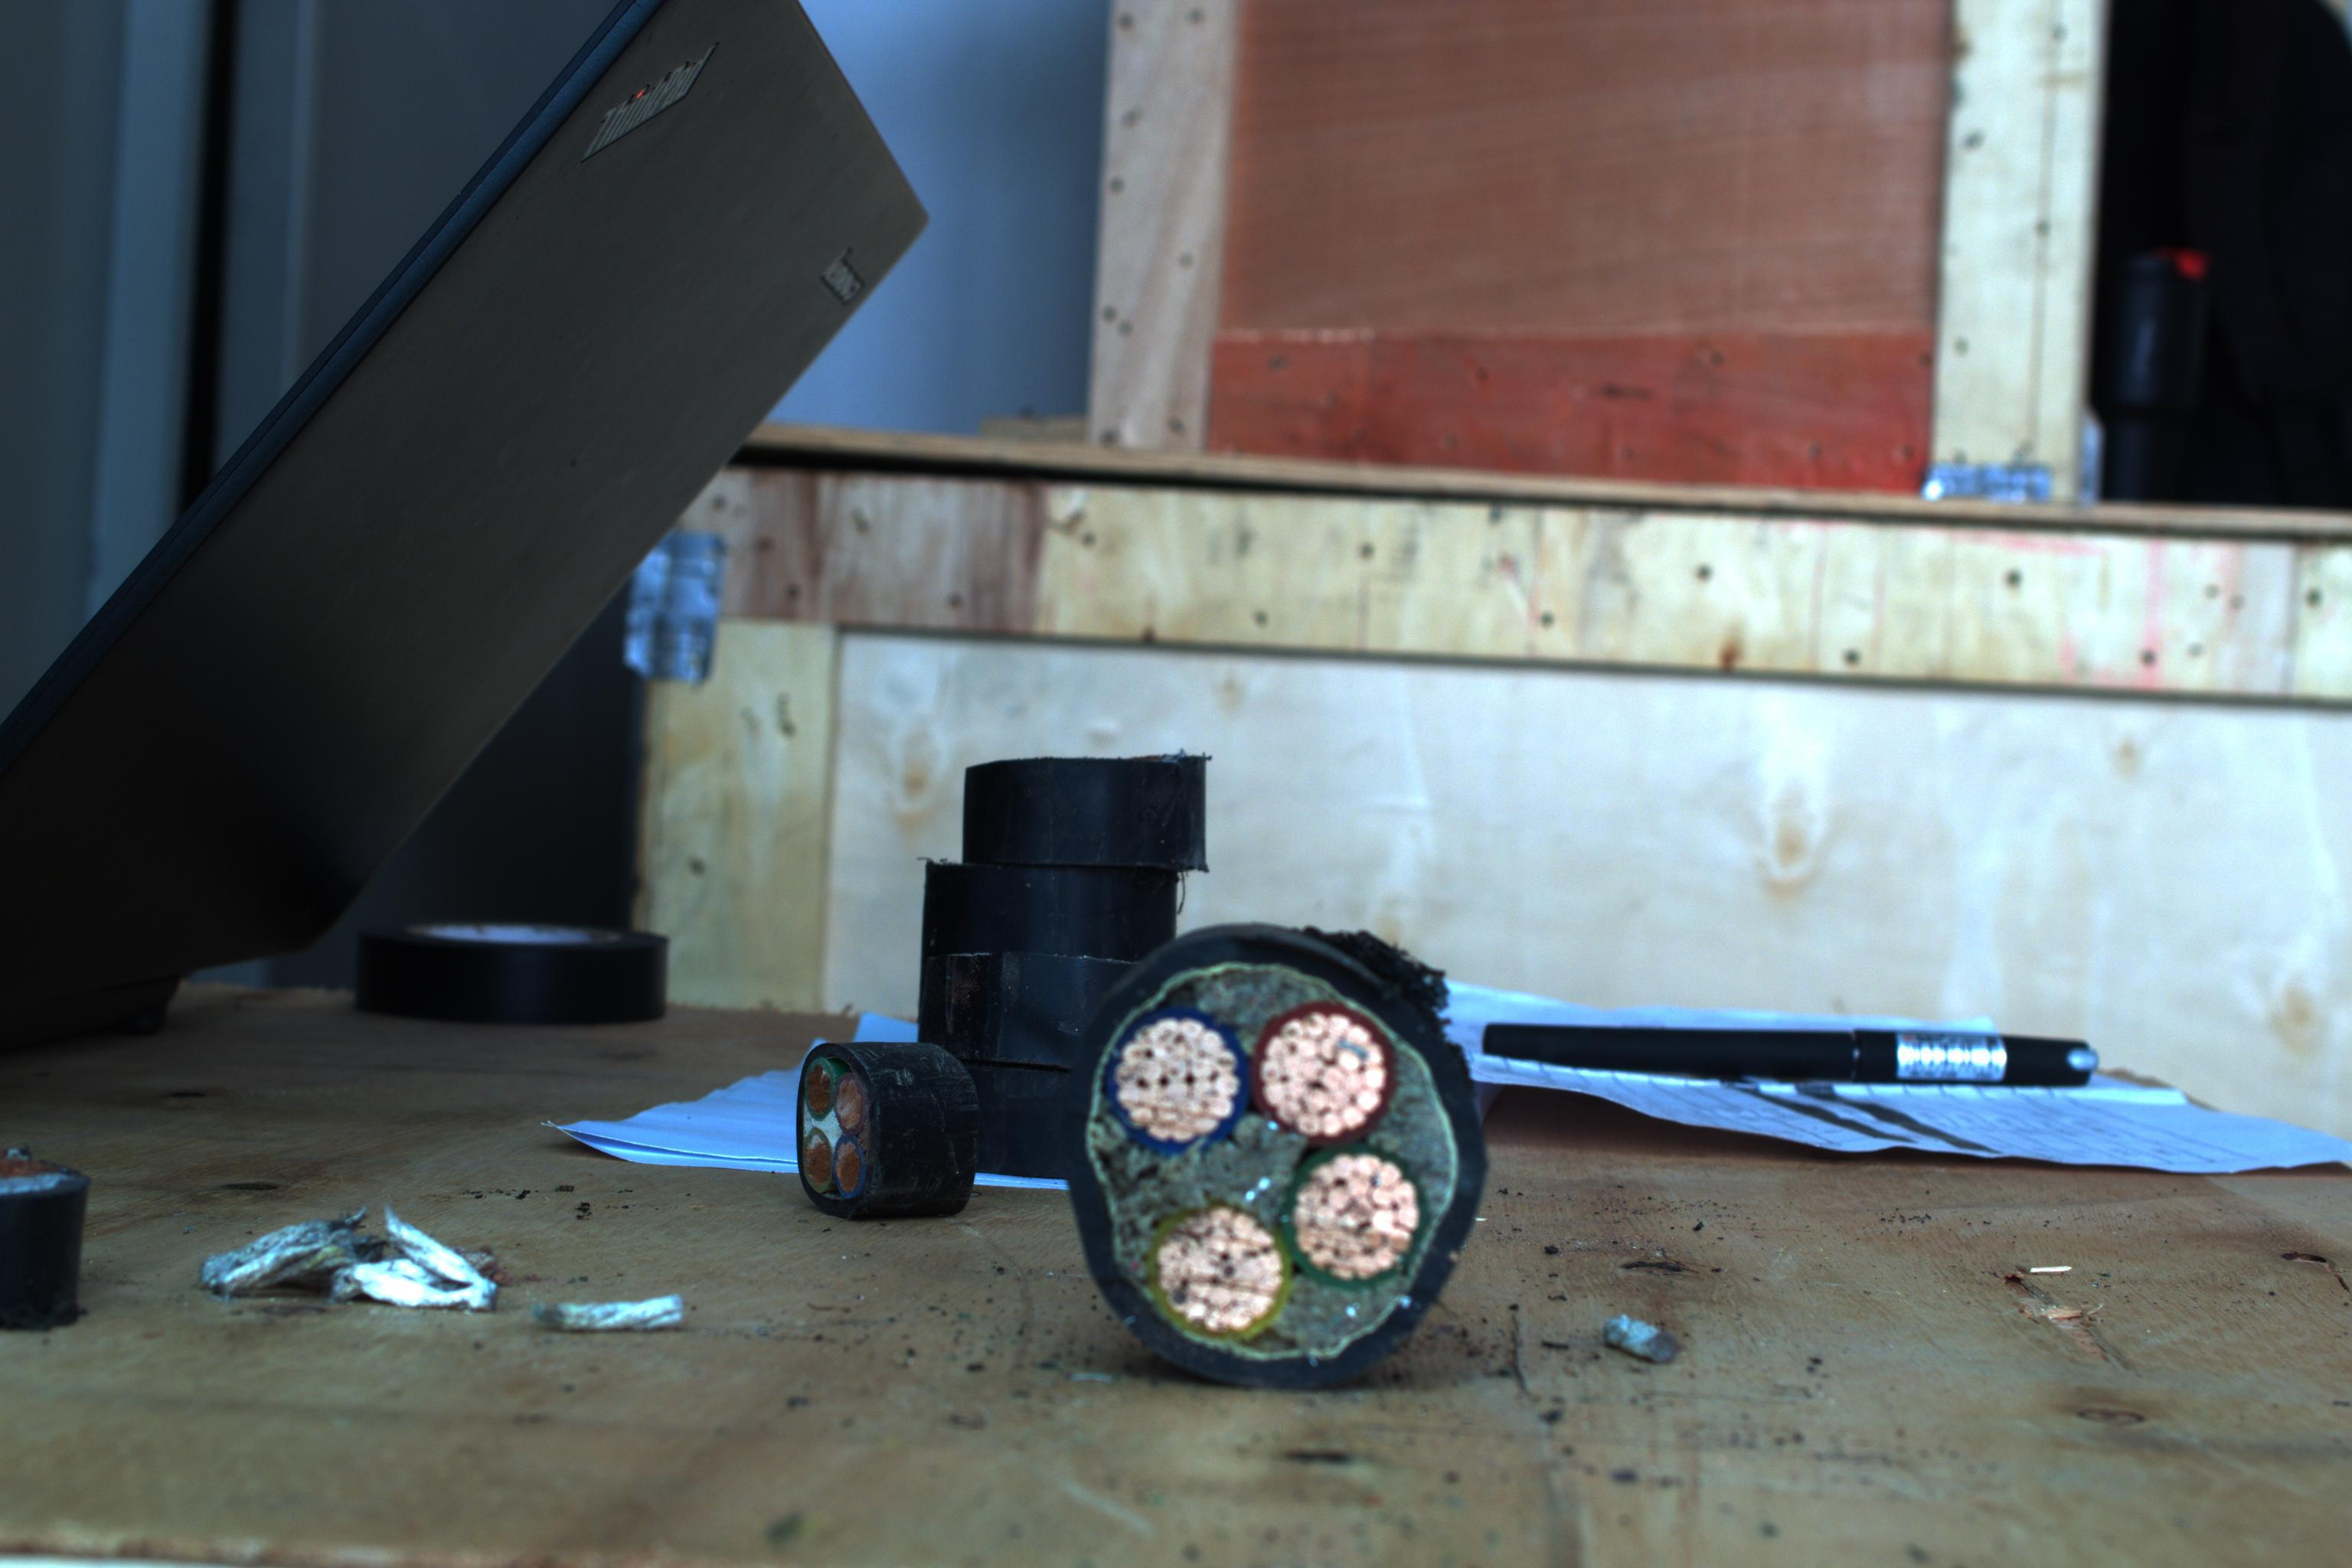YJV_0.6_1kV_4x120: (1071, 938, 1486, 1360)
